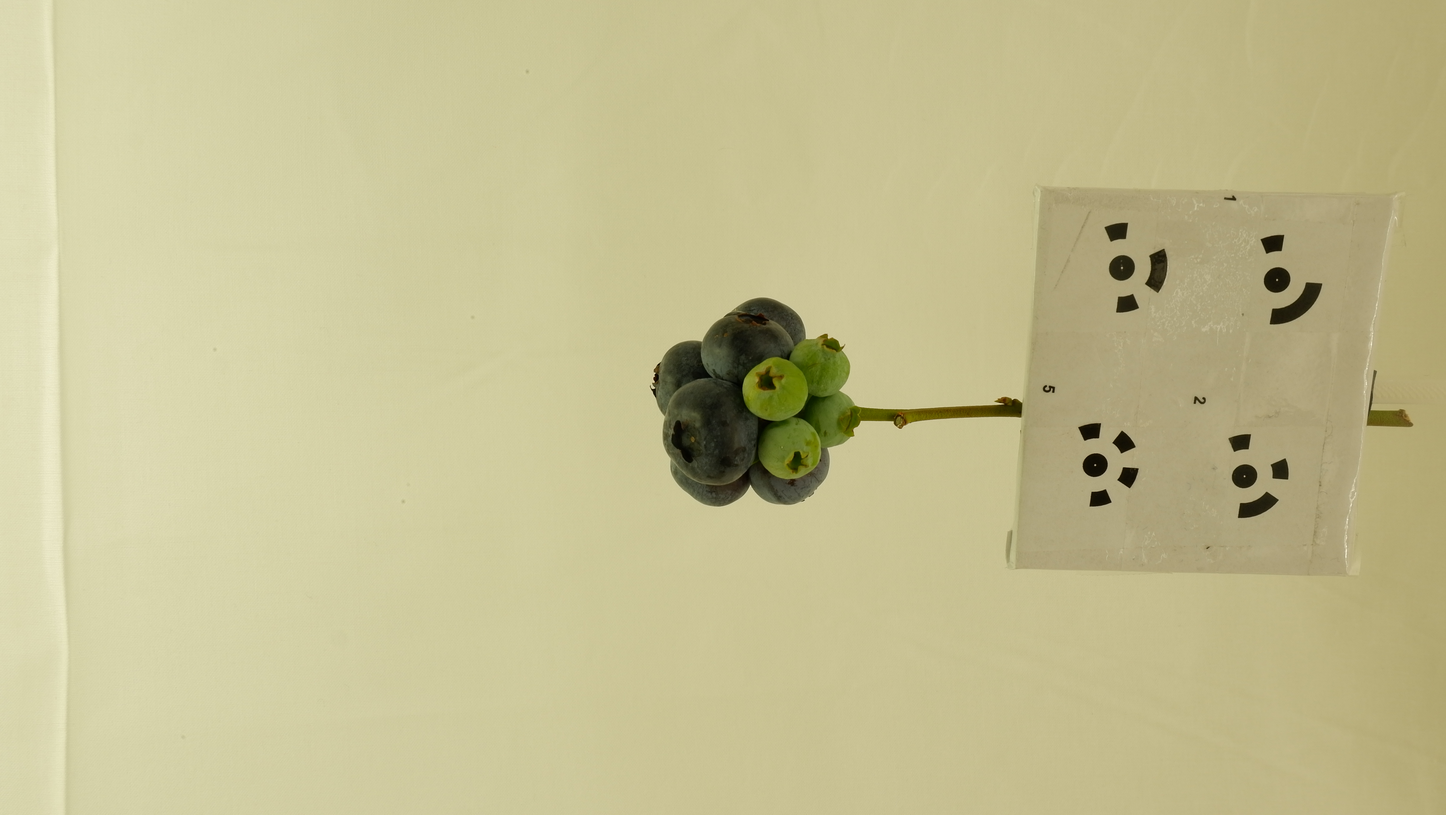Immature: (757, 415, 821, 479), (742, 359, 808, 421), (792, 390, 862, 447)
Mature: (662, 377, 758, 486), (700, 311, 796, 386), (745, 448, 830, 506), (650, 339, 712, 416), (670, 458, 751, 506), (788, 336, 851, 397), (732, 296, 807, 347)
